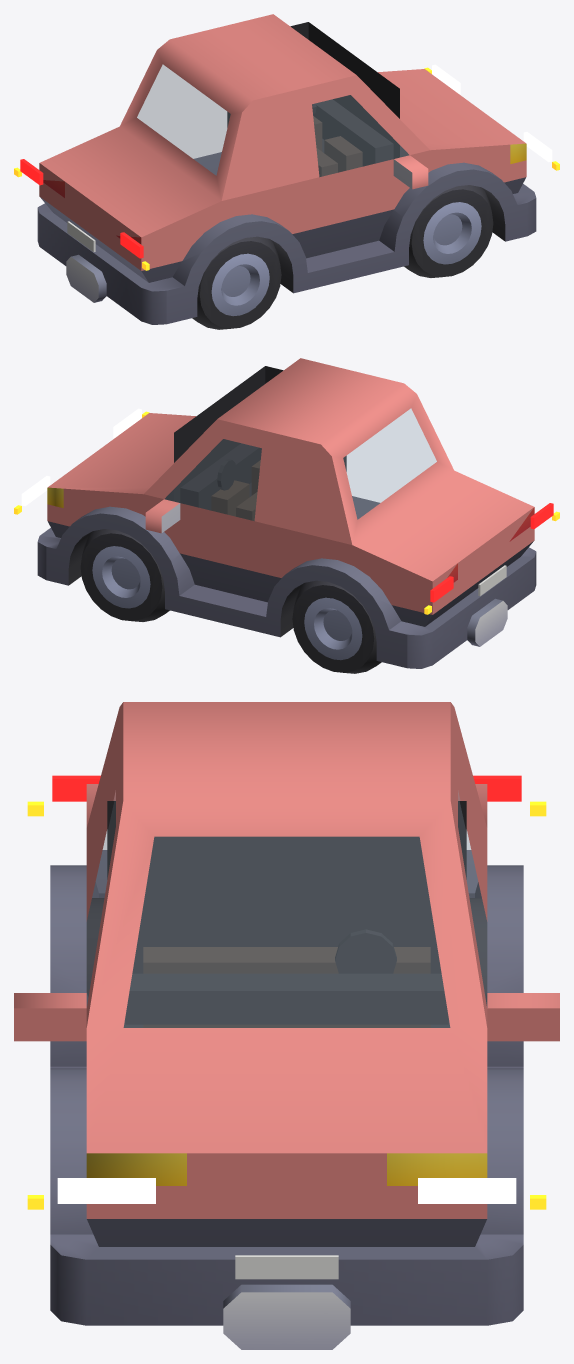
The model's file is veh_car.glb.
3 views of the same model, one above another, from view 1: azimuth 30°, elevation 25°; view 2: azimuth 150°, elevation 25°; view 3: azimuth 270°, elevation 25° (orthographic). The views are drawn at different scales.
Parts seen in each view (by area): view 1: body, wheel_rr, wheel_fr, interior, interior_dash, interior_seat_-1, light_head, light_tail, interior_bench, plate_rear; view 2: body, wheel_rl, wheel_fl, interior, interior_dash, interior_seat_1, light_head, light_tail, interior_steer, interior_bench, plate_rear; view 3: body, interior, interior_dash, interior_bench, light_head, plate_front, interior_steer, light_tail.
Boxes of the visible parts, x1,y1,x2,y2 form: body: [37, 14, 536, 324]; wheel_rr: [192, 236, 281, 329]; wheel_fr: [404, 185, 493, 277]; interior: [227, 22, 399, 166]; interior_dash: [313, 99, 393, 163]; interior_seat_-1: [324, 136, 362, 172]; light_head: [432, 64, 552, 162]; light_tail: [20, 159, 143, 258]; interior_bench: [316, 148, 337, 176]; plate_rear: [67, 221, 95, 252]; body: [37, 358, 536, 668]; wheel_rl: [292, 580, 381, 673]; wheel_fl: [80, 529, 169, 621]; interior: [174, 366, 346, 510]; interior_dash: [180, 443, 261, 507]; interior_seat_1: [211, 480, 249, 516]; light_head: [21, 408, 141, 506]; light_tail: [430, 503, 553, 602]; interior_steer: [217, 459, 236, 490]; interior_bench: [236, 492, 257, 520]; plate_rear: [478, 565, 506, 596]; body: [14, 702, 559, 1349]; interior: [107, 801, 466, 1027]; interior_dash: [125, 973, 448, 1024]; interior_bench: [143, 947, 430, 1027]; light_head: [57, 1178, 516, 1203]; plate_front: [235, 1255, 338, 1279]; interior_steer: [335, 929, 396, 973]; light_tail: [52, 775, 521, 801].
Bounding box in the file's own units: 4.55 × 2.29 × 2.65.
9 materials, 1 textured.
